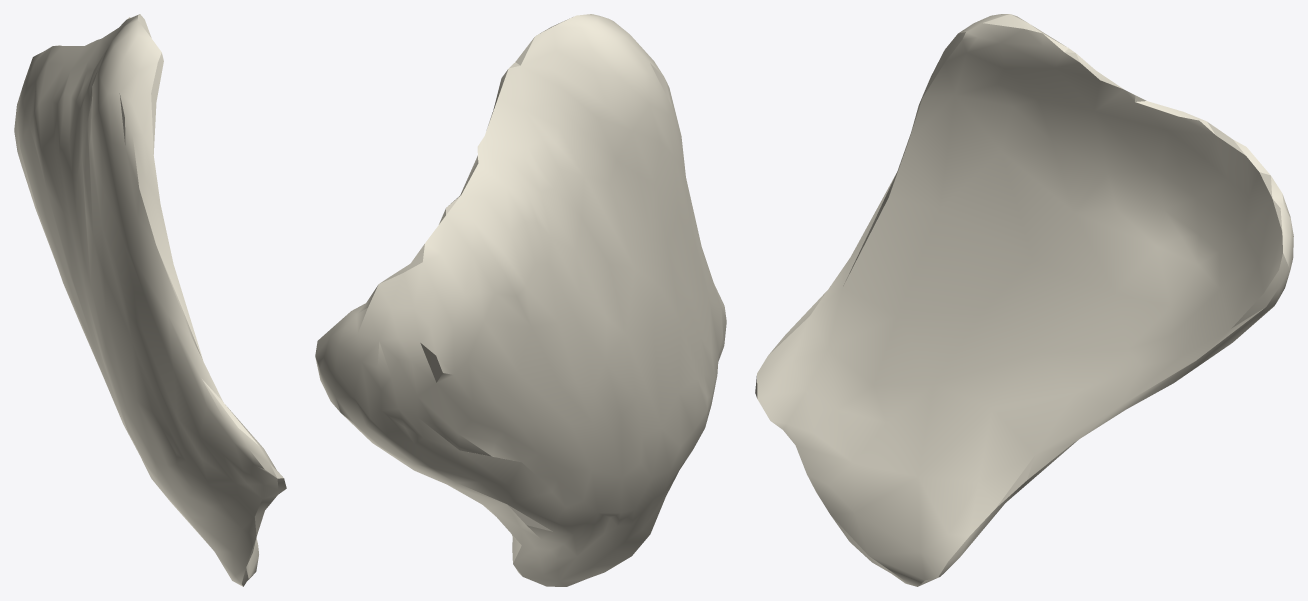
File: fma326803-r_mm1471m.glb
3 renders of one model, left to right at view 1: azimuth 30°, elevation 25°; view 2: azimuth 150°, elevation 25°; view 3: azimuth 270°, elevation 25°, orthographic. The views are drawn at different scales.
Visible parts, largest first — view 1: FMA326803-R_MM1471M; view 2: FMA326803-R_MM1471M; view 3: FMA326803-R_MM1471M.
Boxes of the visible parts, x1,y1,x2,y2 form: FMA326803-R_MM1471M: (14,14,286,586); FMA326803-R_MM1471M: (315,14,726,586); FMA326803-R_MM1471M: (755,14,1293,586).
Bounding box in the file's own units: 0.00413 × 0.0152 × 0.0138.
